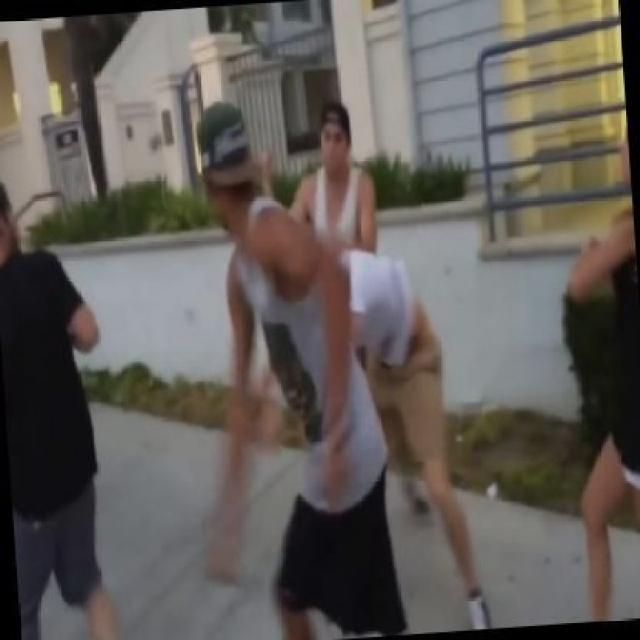fight: (168, 74, 528, 638)
non-fight: (0, 167, 152, 638)
